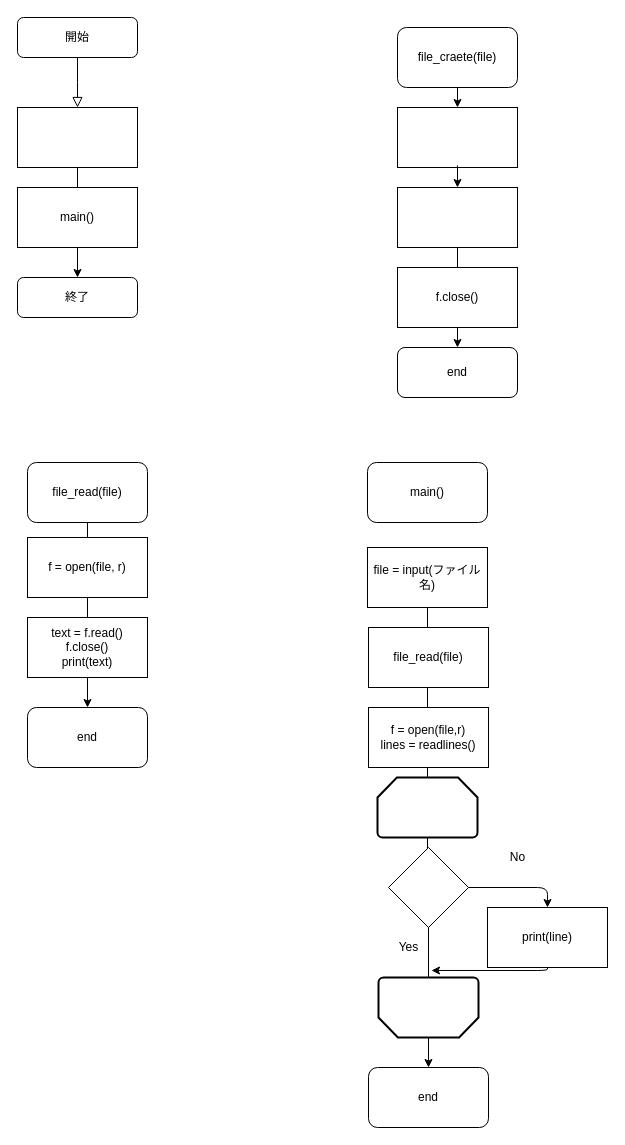
Some shapes in this 625 by 1145 pixel diagram are drawn without their labels. Each missing label, with the centre of its shape:
endfor: [428,1007]
f.write(入れたい文字列): [457,217]
file_create('test3.txt'): [77,137]
for line in lines: [427,807]
llen(line) == 0 or line[0] == "#": [428,887]
with open(file, w) as f: [457,137]
